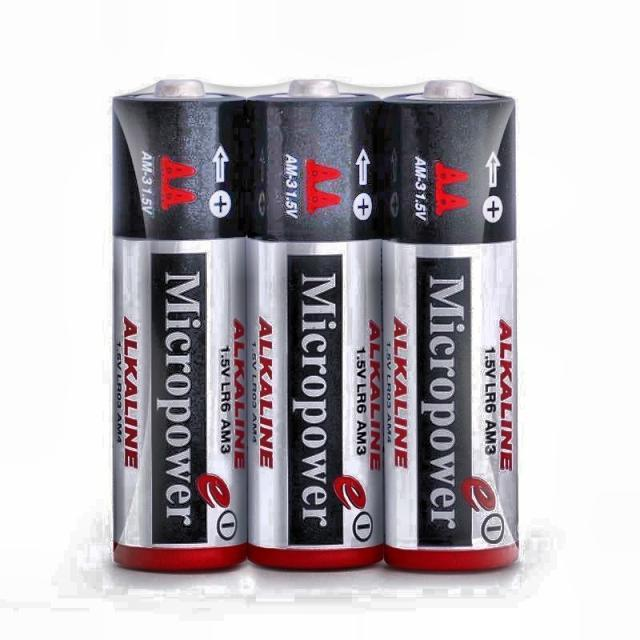battery: (384, 80, 518, 569), (248, 80, 382, 568), (114, 80, 246, 571)
